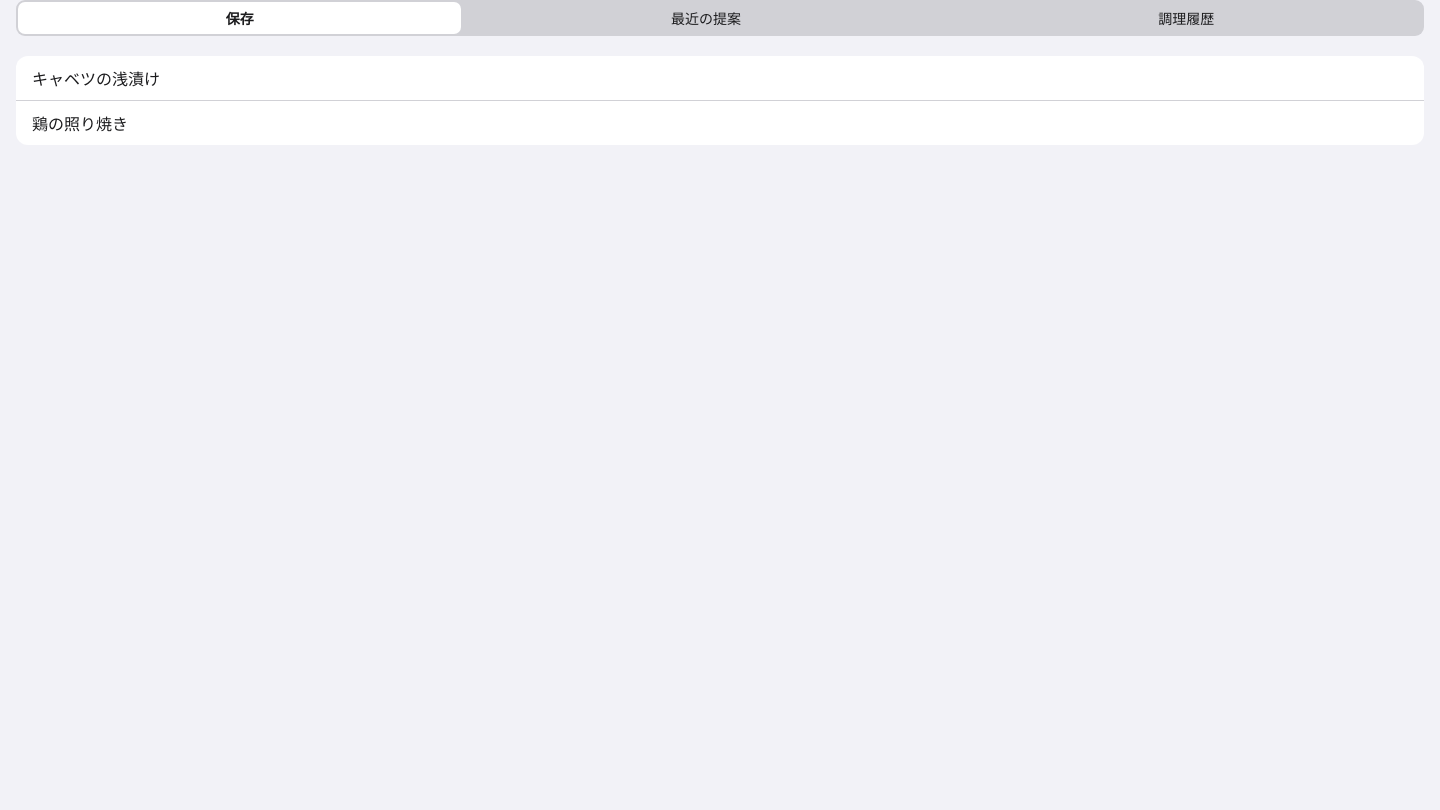
Test case: RecipesScreen ★保存した料理（D-39） › 冷凍の肉を使うレシピは、今の在庫で「冷凍・要解凍」の印と解凍の案内を出す（D-49）
Click the button "鶏の照り焼き".
click(80, 124)  # box [16,101,1424,145]
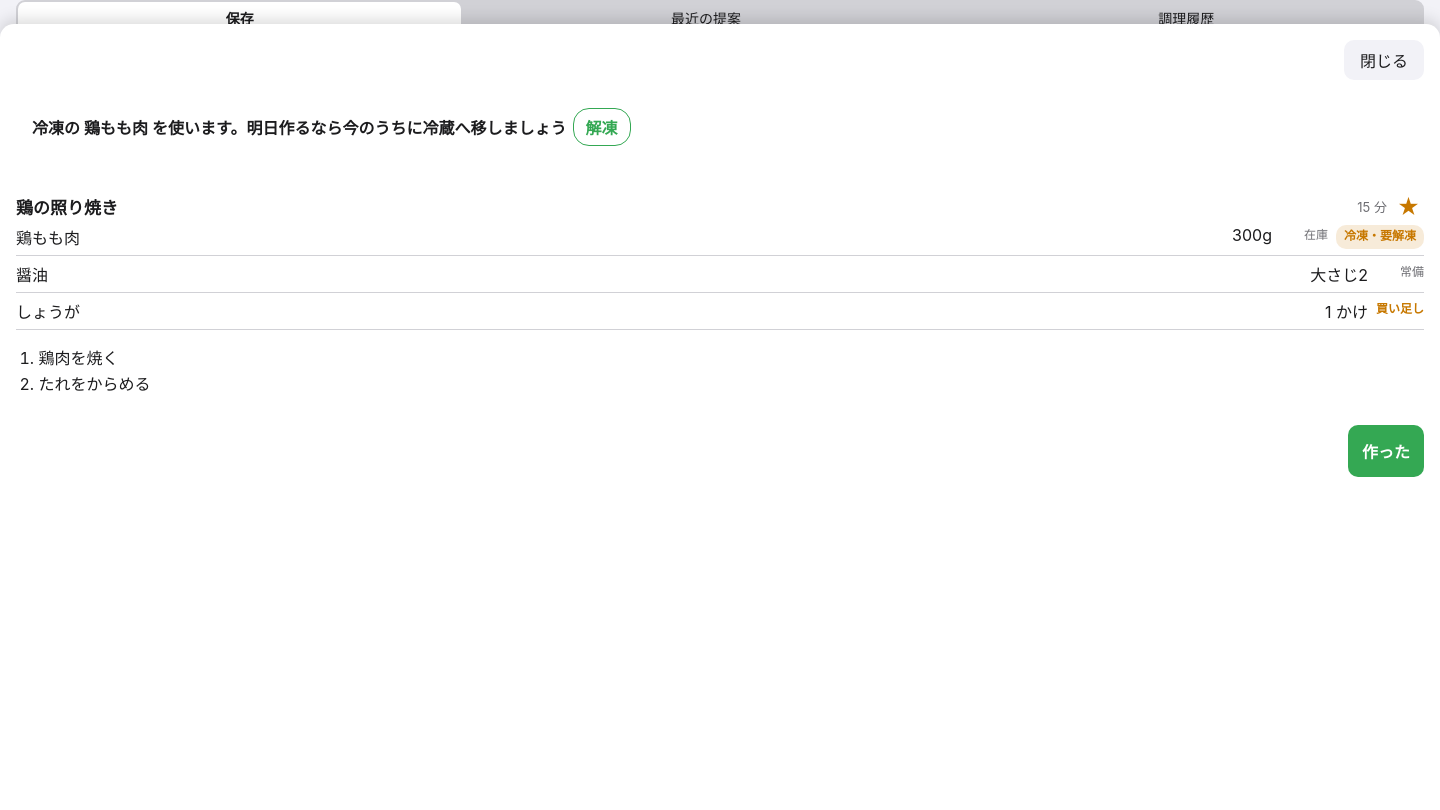
Expected: the element named "解凍の案内" shows "冷凍の 鶏もも肉 を使います", [16,92,1424,162]
Expected: the dialog "鶏の照り焼き" shows "冷凍・要解凍", [1344,228,1416,243]
